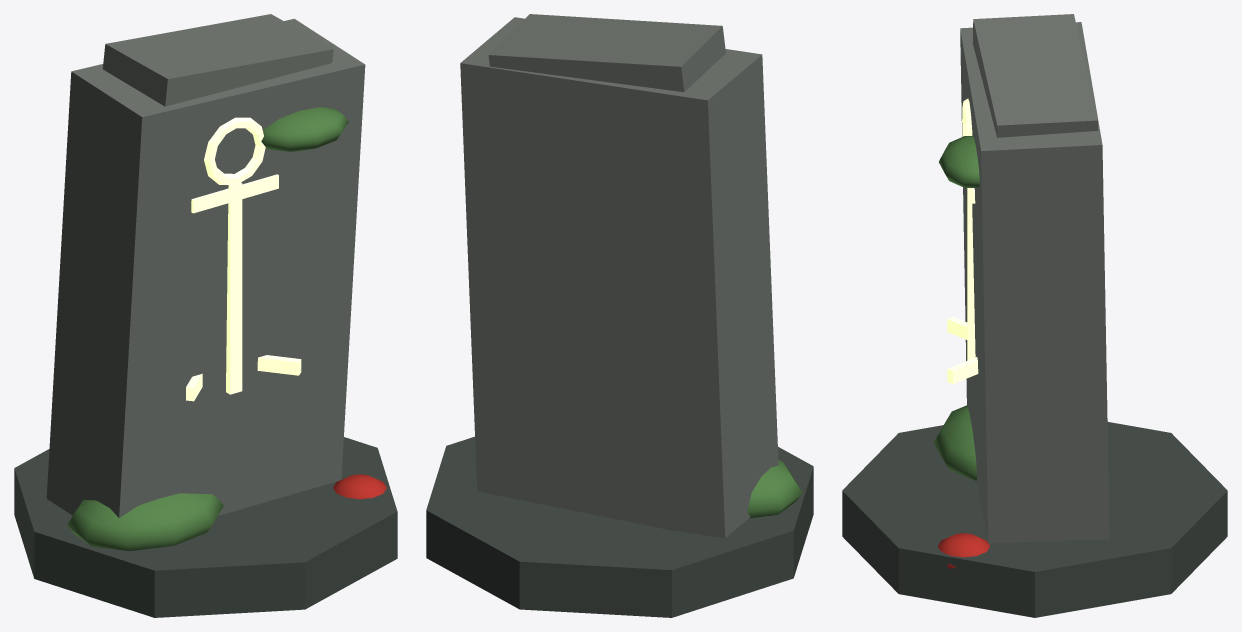
Rendered from Build_Lobby_MapStone_MistySporeSwamps.glb.
3 views of the same model, side by side, from view 1: azimuth 30°, elevation 25°; view 2: azimuth 150°, elevation 25°; view 3: azimuth 270°, elevation 25° (orthographic). The views are drawn at different scales.
Parts seen in each view (by area): view 1: Build_Lobby_MapStone_MistySporeSwamps; view 2: Build_Lobby_MapStone_MistySporeSwamps; view 3: Build_Lobby_MapStone_MistySporeSwamps.
Part boxes in pixels (left/top/right/bottom): Build_Lobby_MapStone_MistySporeSwamps: left=14, top=14, right=397, bottom=617; Build_Lobby_MapStone_MistySporeSwamps: left=426, top=14, right=813, bottom=617; Build_Lobby_MapStone_MistySporeSwamps: left=842, top=14, right=1227, bottom=617.
Size of the model in its own units: 3.8 by 5.27 by 3.8.
